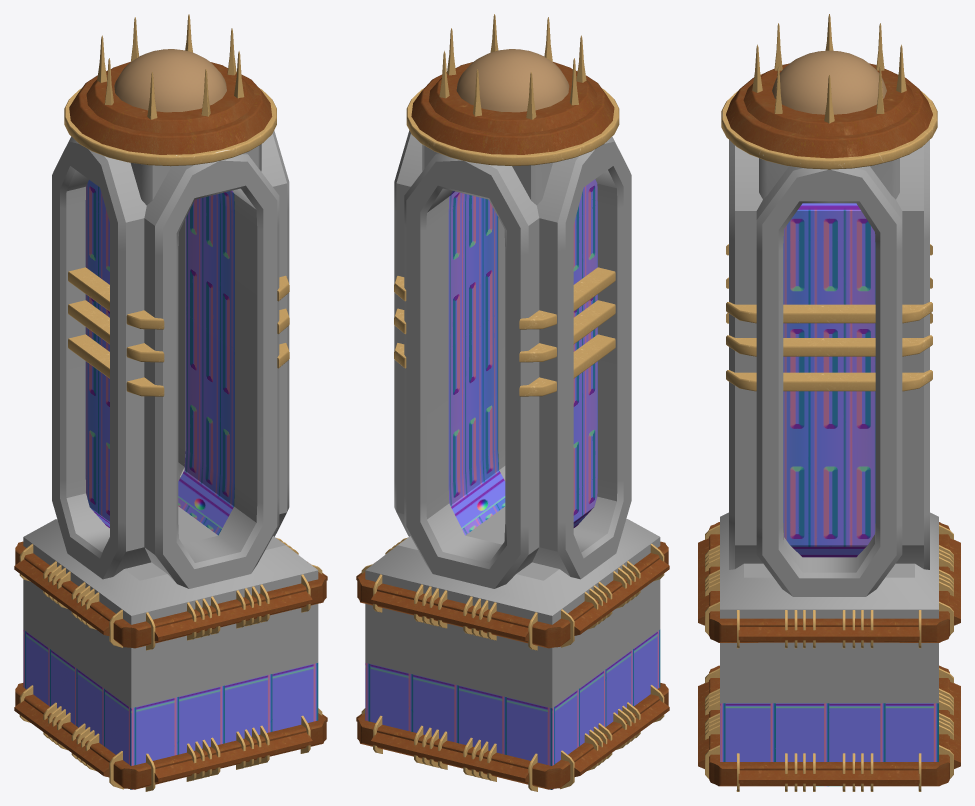
Rendered from Tower_01.fbx.
The picture shows the model from 3 angles, left to right: view 1: azimuth 30°, elevation 25°; view 2: azimuth 150°, elevation 25°; view 3: azimuth 270°, elevation 25°; orthographic projection.
Visible parts, largest first — view 1: Tower_01; view 2: Tower_01; view 3: Tower_01.
Part boxes in pixels (box(x1,y1,x2,y2)): Tower_01: box(14, 14, 327, 791); Tower_01: box(356, 14, 669, 791); Tower_01: box(698, 14, 960, 791).
Bounding box in the file's own units: 288 × 848 × 288.
5 materials, 4 textured.
